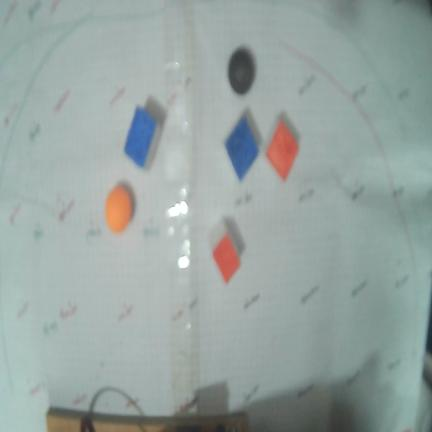circle_blue: (227, 46, 256, 95)
circle_orange: (105, 185, 131, 233)
rectangle_blue: (124, 106, 157, 167)
rectangle_orange: (213, 231, 240, 283)
square_blue: (225, 116, 259, 180)
square_orange: (266, 119, 298, 181)
